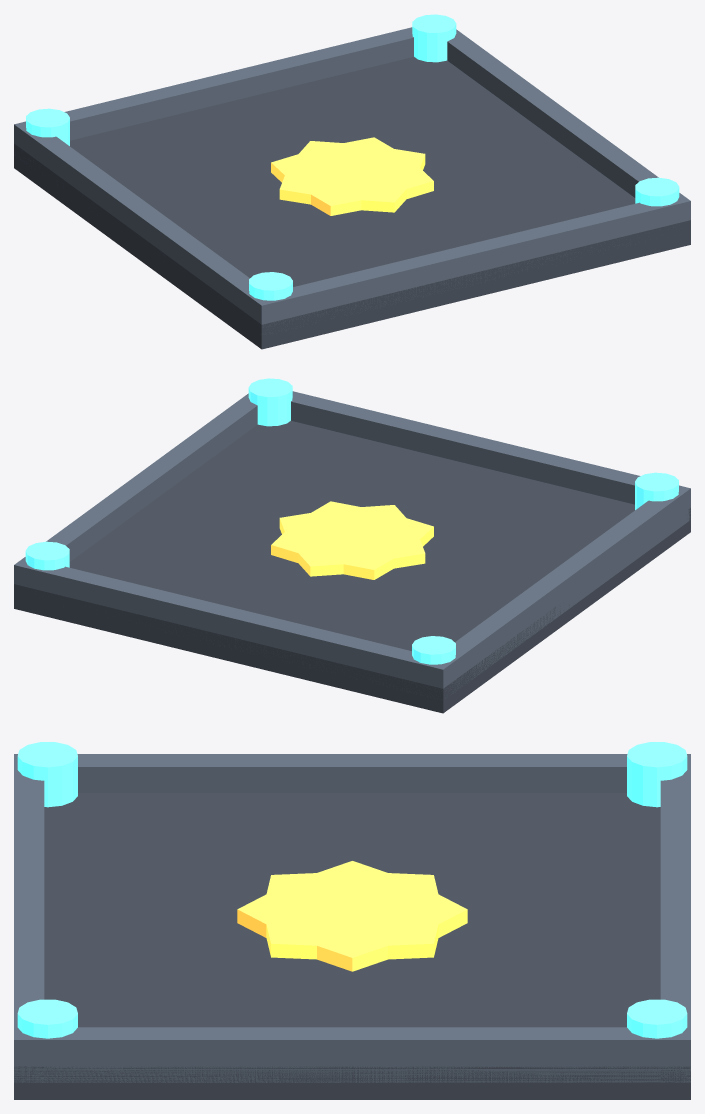
The model's file is AXM-TERRAIN-TILE-001_LOD1.glb.
The picture shows the model from 3 angles, top to bottom: view 1: azimuth 30°, elevation 25°; view 2: azimuth 150°, elevation 25°; view 3: azimuth 270°, elevation 25°; orthographic projection. The views are drawn at different scales.
Parts seen in each view (by area): view 1: platform, edge_x__l00, edge_x__l01, center_plate, edge_y__l00, edge_y__l01, corner_node__g03, corner_node__g01, corner_node__g02, corner_node__g00; view 2: platform, edge_x__l01, edge_y__l00, edge_x__l00, center_plate, edge_y__l01, corner_node__g02, corner_node__g00, corner_node__g03, corner_node__g01; view 3: platform, edge_y__l01, edge_y__l00, center_plate, edge_x__l00, edge_x__l01, corner_node__g00, corner_node__g01, corner_node__g02, corner_node__g03.
Boxes of the visible parts, bbox=[...] form: platform: bbox=[14, 57, 690, 349]; edge_x__l00: bbox=[250, 193, 690, 334]; edge_x__l01: bbox=[14, 27, 413, 161]; center_plate: bbox=[271, 137, 433, 215]; edge_y__l00: bbox=[25, 132, 252, 316]; edge_y__l01: bbox=[447, 29, 658, 197]; corner_node__g03: bbox=[412, 14, 456, 62]; corner_node__g01: bbox=[26, 108, 69, 145]; corner_node__g02: bbox=[635, 177, 679, 206]; corner_node__g00: bbox=[249, 272, 292, 300]; platform: bbox=[14, 421, 690, 713]; edge_x__l01: bbox=[14, 557, 454, 698]; edge_y__l00: bbox=[452, 496, 679, 692]; edge_x__l00: bbox=[291, 391, 690, 527]; center_plate: bbox=[271, 501, 433, 579]; edge_y__l01: bbox=[46, 393, 257, 561]; corner_node__g02: bbox=[248, 378, 292, 426]; corner_node__g00: bbox=[635, 472, 678, 509]; corner_node__g03: bbox=[25, 541, 69, 570]; corner_node__g01: bbox=[412, 636, 455, 664]; platform: bbox=[14, 793, 690, 1099]; edge_y__l01: bbox=[44, 1027, 660, 1082]; edge_y__l00: bbox=[77, 754, 627, 792]; center_plate: bbox=[237, 861, 467, 971]; edge_x__l00: bbox=[14, 754, 44, 1082]; edge_x__l01: bbox=[660, 754, 690, 1082]; corner_node__g00: bbox=[17, 742, 77, 807]; corner_node__g01: bbox=[627, 742, 687, 807]; corner_node__g02: bbox=[17, 999, 77, 1038]; corner_node__g03: bbox=[627, 999, 687, 1038].
Size of the model in its own units: 4 by 0.48 by 4.
